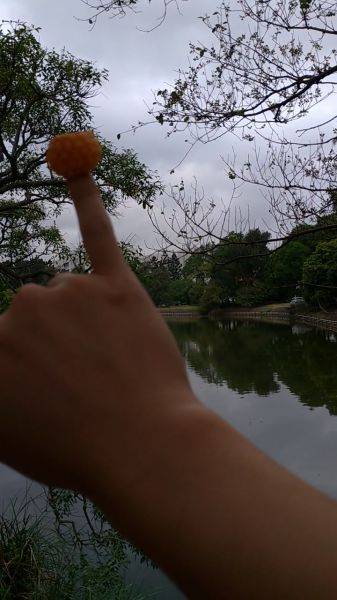eggs: (46, 131, 100, 174)
